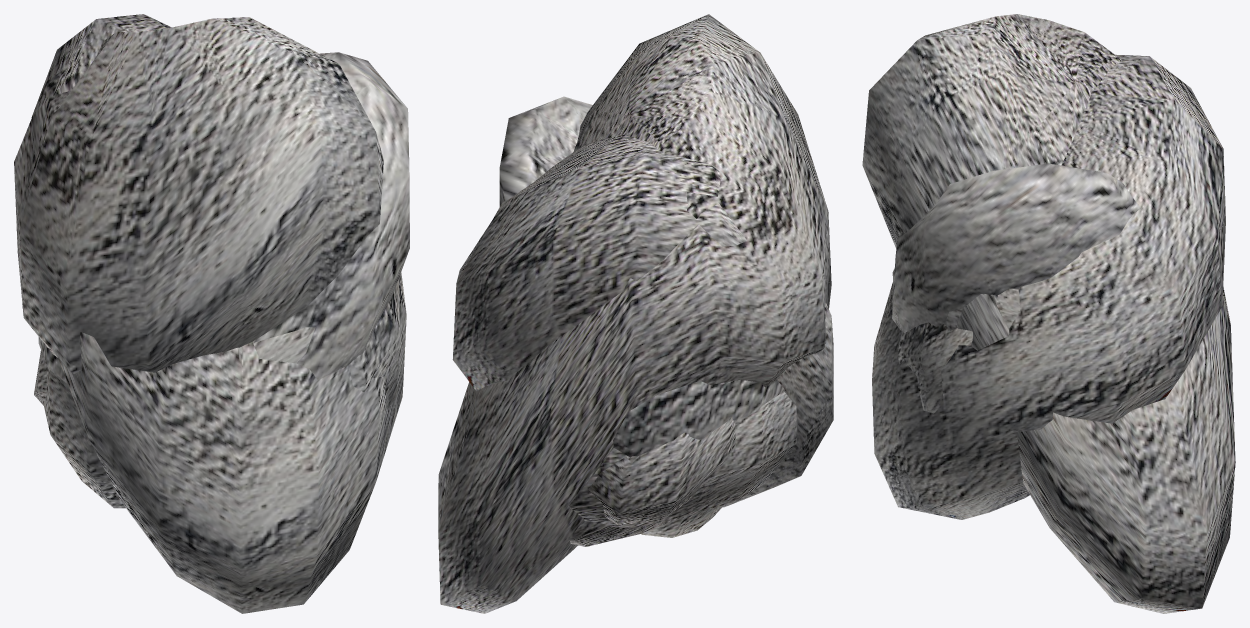
Rendered from asteroides_congunto5.FBX.
The picture shows the model from 3 angles, left to right: view 1: azimuth 30°, elevation 25°; view 2: azimuth 150°, elevation 25°; view 3: azimuth 270°, elevation 25°; orthographic projection. The views are drawn at different scales.
Parts seen in each view (by area): view 1: c_meteo_4, c_meteo_2, c_meteo_5, c_meteo_3, c_meteo_1; view 2: c_meteo_4, c_meteo_2, c_meteo_5 (×2), c_meteo_1, c_meteo_3; view 3: c_meteo_4, c_meteo_2, c_meteo_5, c_meteo_1, c_meteo_3.
Boxes of the visible parts, bbox=[...] form: c_meteo_4: bbox=[14, 17, 399, 374]; c_meteo_2: bbox=[31, 14, 406, 613]; c_meteo_5: bbox=[38, 52, 409, 383]; c_meteo_3: bbox=[43, 327, 315, 508]; c_meteo_1: bbox=[34, 279, 399, 409]; c_meteo_4: bbox=[438, 14, 831, 613]; c_meteo_2: bbox=[452, 135, 833, 507]; c_meteo_5 (×2): bbox=[499, 96, 784, 546]; c_meteo_1: bbox=[588, 416, 735, 525]; c_meteo_3: bbox=[569, 391, 797, 528]; c_meteo_4: bbox=[862, 14, 1235, 613]; c_meteo_2: bbox=[872, 54, 1225, 519]; c_meteo_5: bbox=[892, 163, 1140, 332]; c_meteo_1: bbox=[897, 322, 972, 413]; c_meteo_3: bbox=[892, 267, 1020, 330].
Size of the model in its own units: 21.19 by 35.46 by 22.41.
